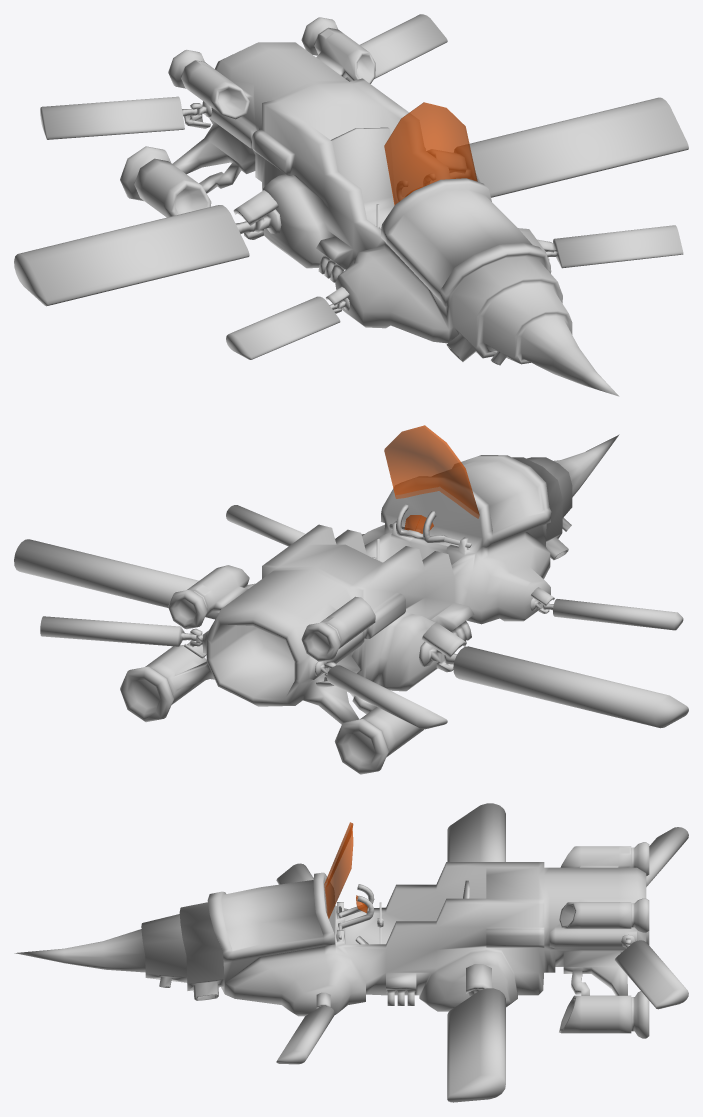
File: aircraft.fbx
3 views of the same model, one above another, from view 1: azimuth 30°, elevation 25°; view 2: azimuth 150°, elevation 25°; view 3: azimuth 270°, elevation 25° (orthographic). The views are drawn at different scales.
Parts seen in each view (by area): view 1: AirCraft; view 2: AirCraft; view 3: AirCraft.
Boxes of the visible parts, x1,y1,x2,y2 form: AirCraft: (14,14,688,396); AirCraft: (14,425,688,774); AirCraft: (14,803,688,1102).
Bounding box in the file's own units: 12.72 × 3.75 × 13.45.
